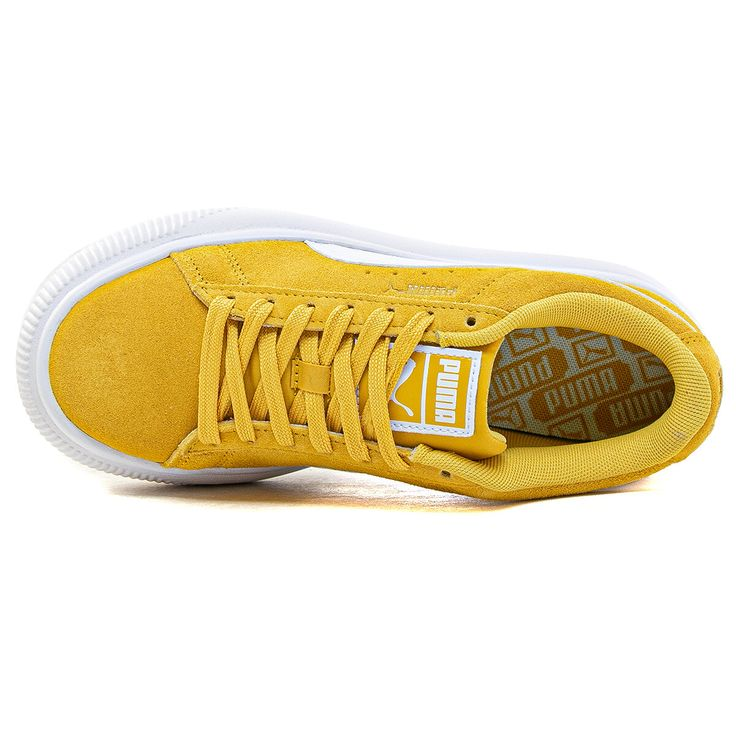gamuza: (48, 239, 724, 504)
